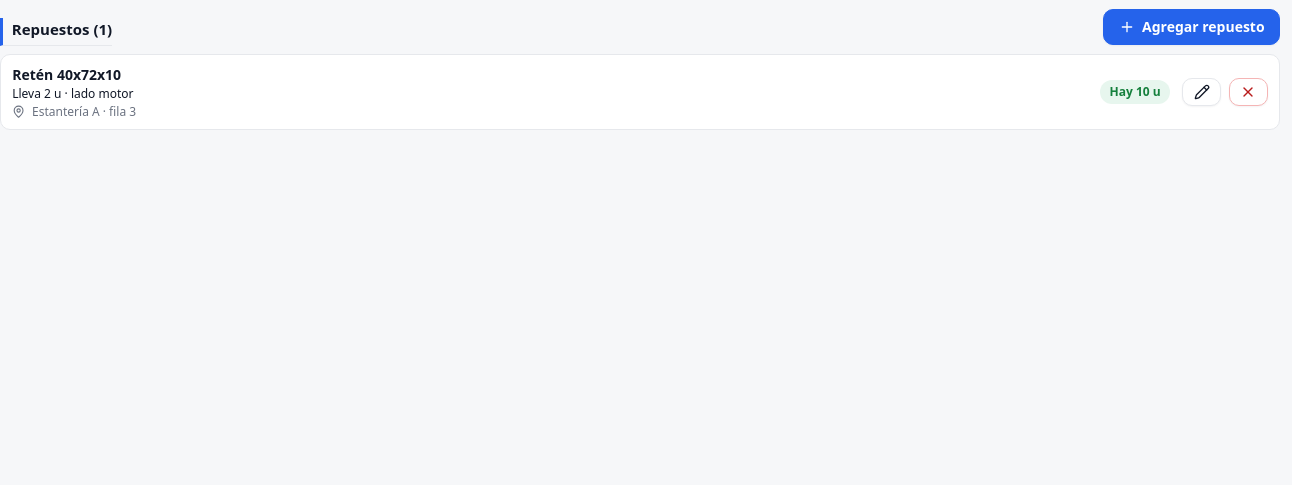
Test case: Repuestos en la ficha del equipo › REGRESION: elegir uno que ya está avisa y no deja agregarlo dos veces
Click the button "Agregar repuesto" at (1192, 27), box [1104,8,1280,45]
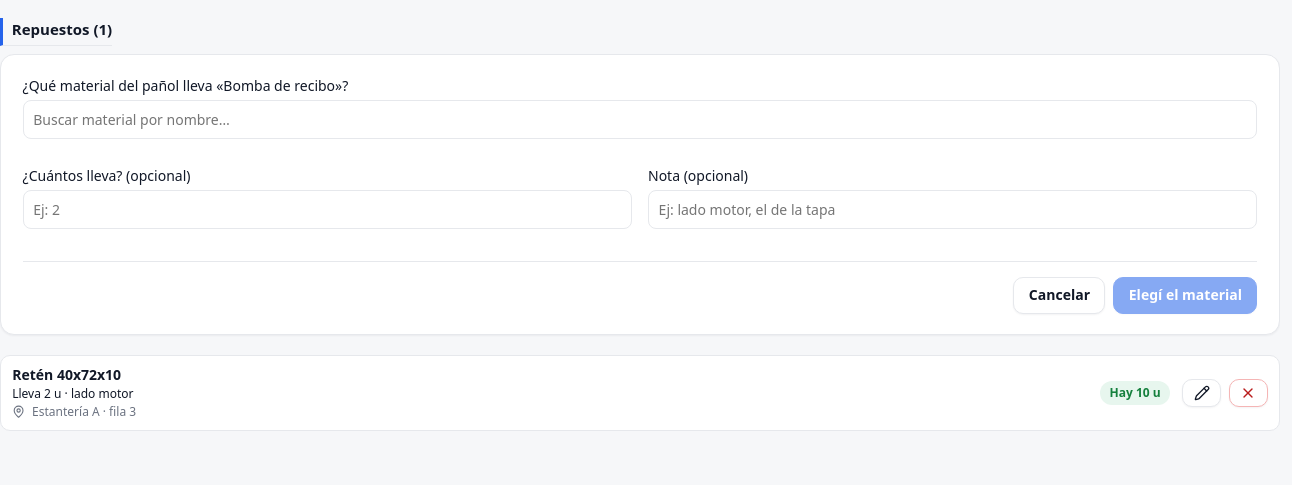
Click the field labelled "¿Qué material del pañol lleva «Bomba de recibo»?" at (640, 120), box [23,100,1257,139]
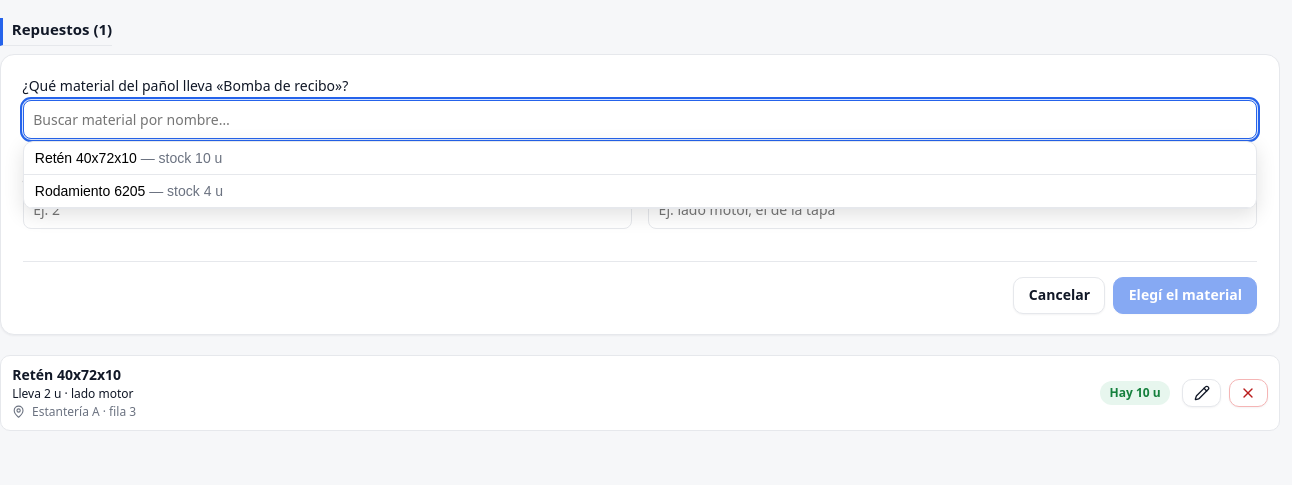
// El de la lista desplegable, no los botones ✎ / ✕ de la fila.
Click the button "Retén 40x72x10 — stock 10 u" at (86, 158), box [24,142,1256,175]
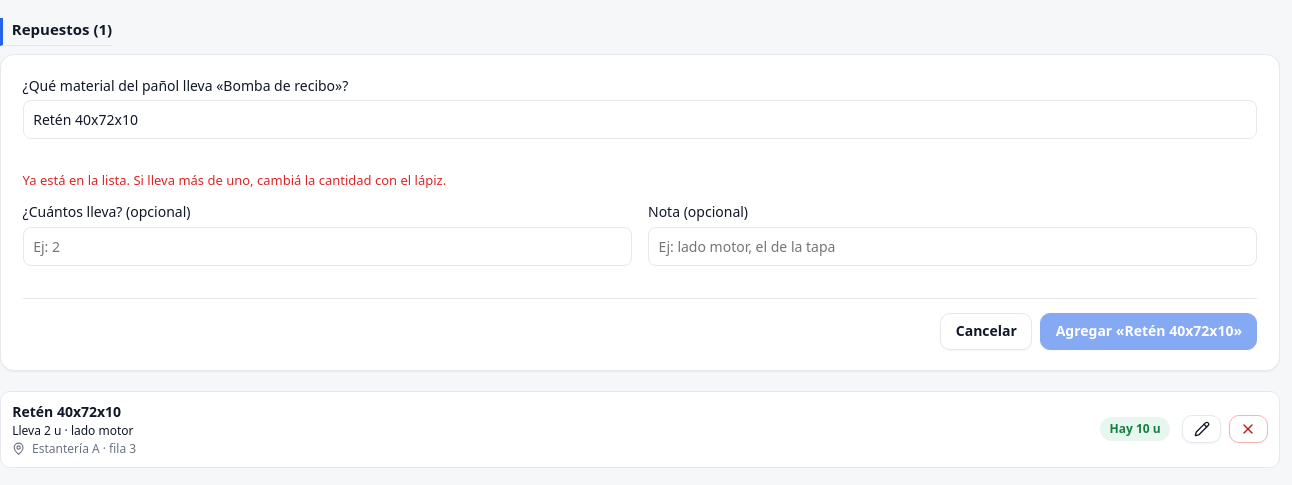
expect the button "Agregar «Retén 40x72x10»" is disabled: met, box [1040,313,1257,350]
expect the text "Ya está en la lista" is shown: met, box [23,170,446,188]
